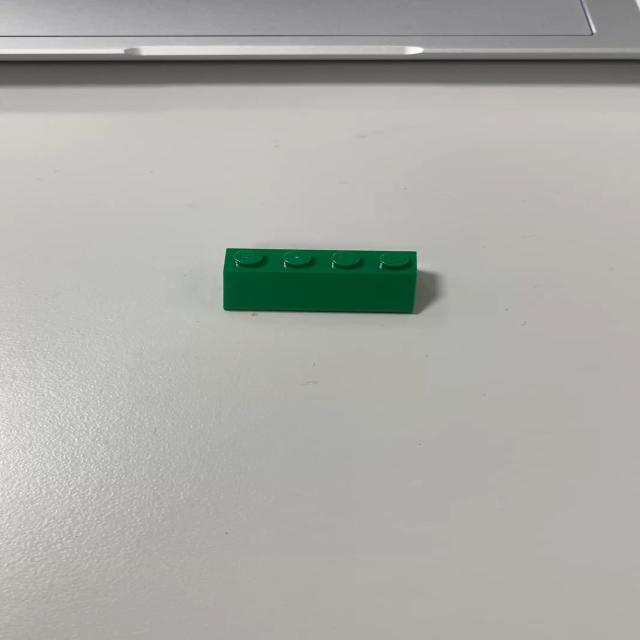P4x2x1: (222, 250, 419, 317)
